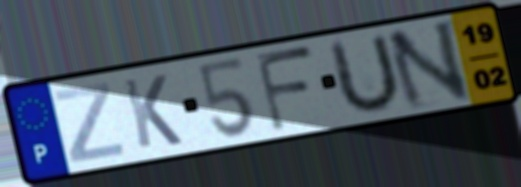5: (194, 53, 256, 142)
F: (252, 43, 319, 135)
K: (119, 72, 186, 152)
N: (382, 15, 475, 114)
U: (328, 29, 403, 119)
Z: (51, 80, 127, 166)
